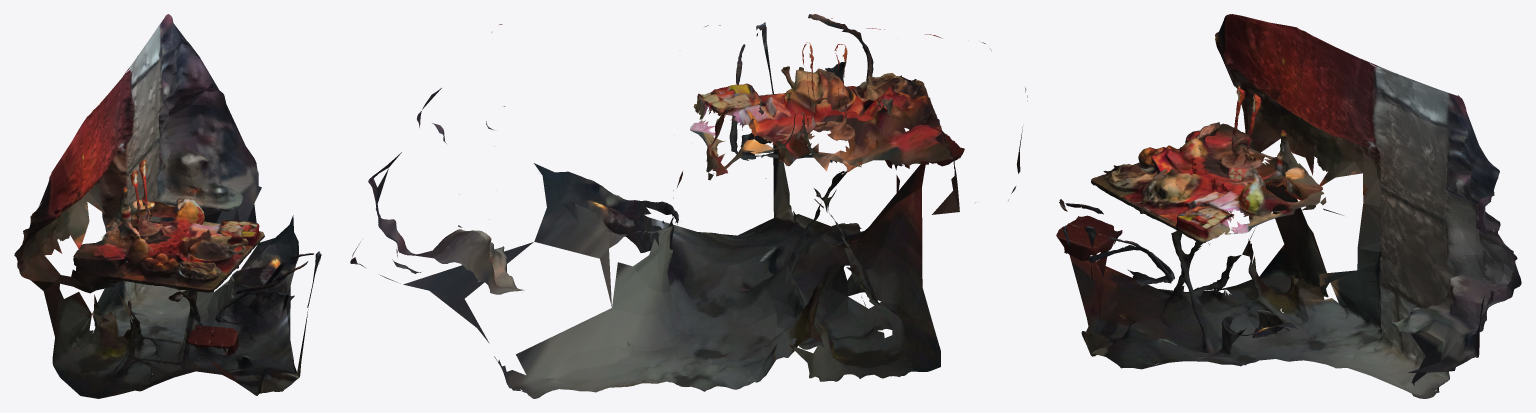
File: mymodel.glb
The picture shows the model from 3 angles, left to right: view 1: azimuth 30°, elevation 25°; view 2: azimuth 150°, elevation 25°; view 3: azimuth 270°, elevation 25°; orthographic projection. The views are drawn at different scales.
Parts seen in each view (by area): view 1: mesh; view 2: mesh; view 3: mesh.
Boxes of the visible parts, x1,y1,x2,y2 form: mesh: (14, 14, 321, 398); mesh: (350, 14, 1027, 398); mesh: (1056, 14, 1521, 398).
Size of the model in its own units: 2.16 by 1.56 by 2.19.
1 material, 1 textured.
